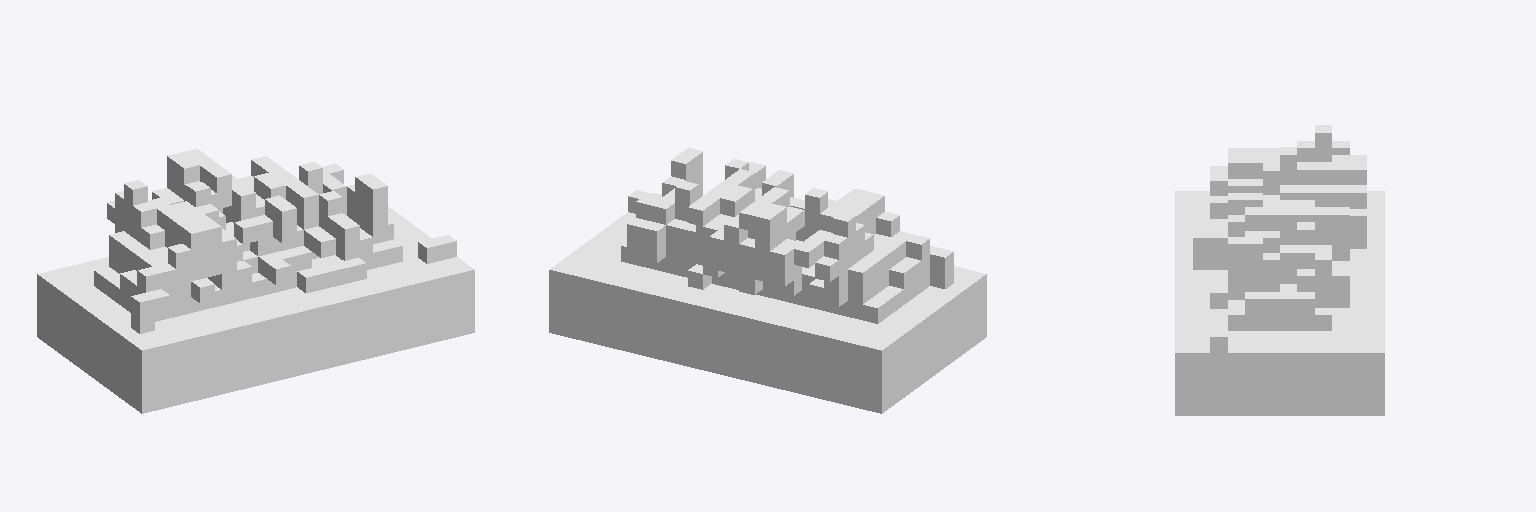
The model's file is Tombstones-5-BrokenSarcoph1.obj.
3 renders of one model, left to right at view 1: azimuth 30°, elevation 25°; view 2: azimuth 150°, elevation 25°; view 3: azimuth 270°, elevation 25°, orthographic.
Visible parts, largest first — view 1: BrokenSarcoph1; view 2: BrokenSarcoph1; view 3: BrokenSarcoph1.
Part boxes in pixels (x1,y1,x2,y2): BrokenSarcoph1: (37,149,474,413); BrokenSarcoph1: (549,148,986,413); BrokenSarcoph1: (1175,125,1384,415).
Size of the model in its own units: 2.2 by 1 by 1.2.